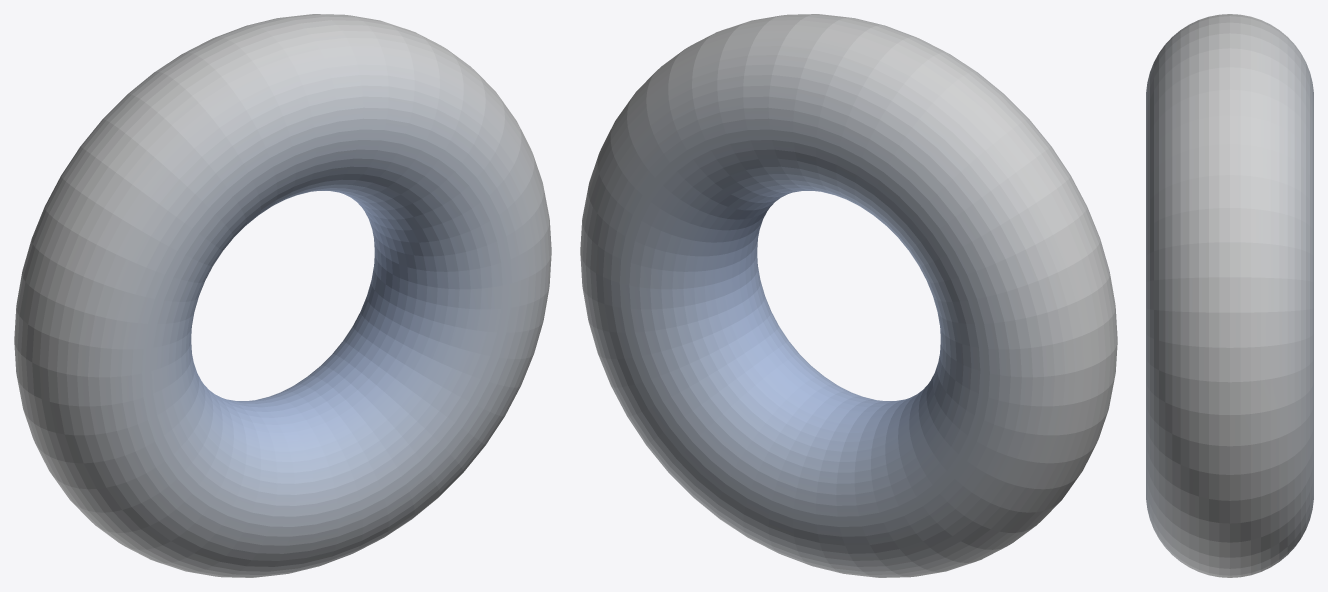
3 views of the same model, side by side, from view 1: azimuth 30°, elevation 25°; view 2: azimuth 150°, elevation 25°; view 3: azimuth 270°, elevation 25° (orthographic). The views are drawn at different scales.
Visible parts, largest first — view 1: world; view 2: world; view 3: world.
Boxes of the visible parts, bbox=[...] form: world: bbox=[14, 14, 551, 577]; world: bbox=[580, 14, 1117, 577]; world: bbox=[1146, 14, 1313, 577].
Bounding box in the file's own units: 22.8 × 22.76 × 6.79.
